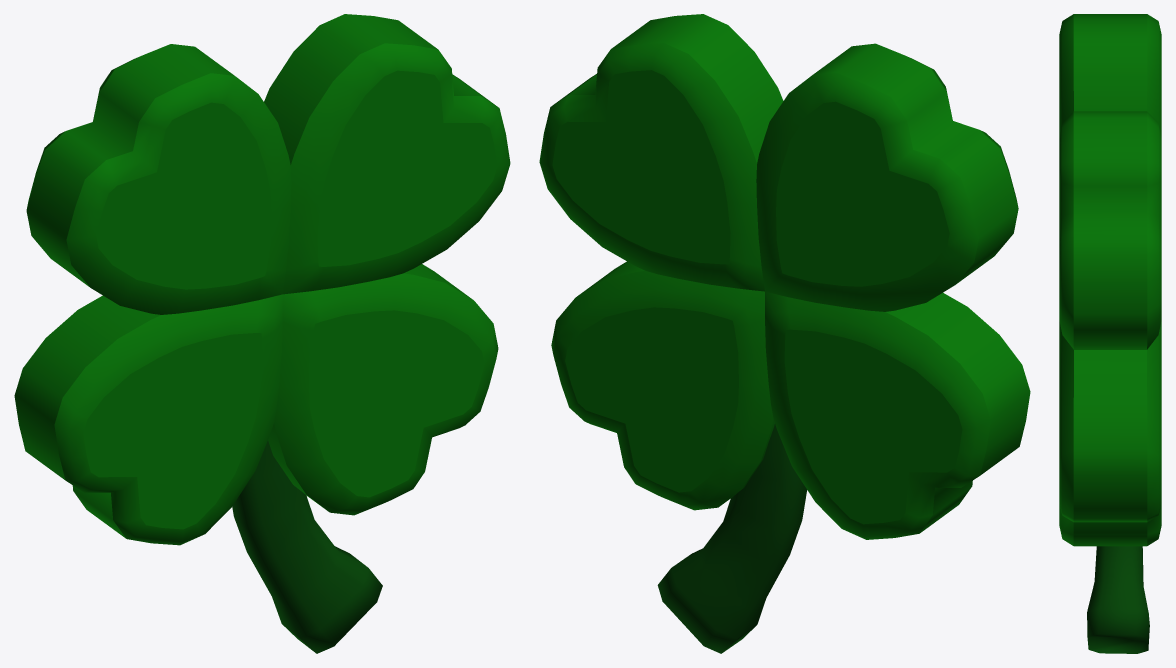
Rendered from Item_Clover.fbx.
3 views of the same model, side by side, from view 1: azimuth 30°, elevation 25°; view 2: azimuth 150°, elevation 25°; view 3: azimuth 270°, elevation 25° (orthographic). The views are drawn at different scales.
Visible parts, largest first — view 1: Item_Clover; view 2: Item_Clover; view 3: Item_Clover.
Boxes of the visible parts, x1,y1,x2,y2 form: Item_Clover: (14, 14, 510, 653); Item_Clover: (539, 14, 1030, 653); Item_Clover: (1059, 14, 1161, 653).
Bounding box in the file's own units: 18.94 × 24.64 × 4.01.
